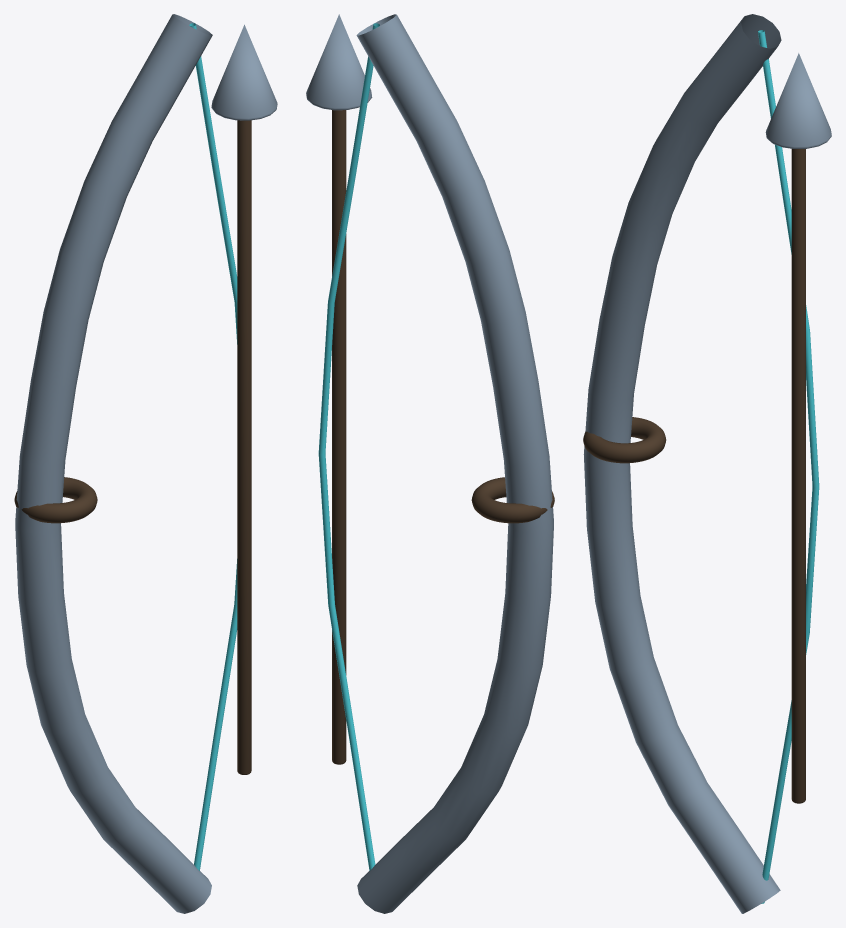
File: bow.glb
The picture shows the model from 3 angles, left to right: view 1: azimuth 30°, elevation 25°; view 2: azimuth 150°, elevation 25°; view 3: azimuth 330°, elevation 25°; orthographic projection.
Visible parts, largest first — view 1: BOW_BODY_PRIMARY, ARROW_SECONDARY, BOW_STRING_ACCENT, ARROW_HEAD_PRIMARY, BOW_GRIP_SECONDARY; view 2: BOW_BODY_PRIMARY, ARROW_SECONDARY, BOW_STRING_ACCENT, ARROW_HEAD_PRIMARY, BOW_GRIP_SECONDARY; view 3: BOW_BODY_PRIMARY, ARROW_SECONDARY, BOW_STRING_ACCENT, ARROW_HEAD_PRIMARY, BOW_GRIP_SECONDARY.
Part boxes in pixels (x1,y1,x2,y2): BOW_BODY_PRIMARY: (15, 14, 212, 913); ARROW_SECONDARY: (237, 120, 251, 774); BOW_STRING_ACCENT: (189, 23, 237, 870); ARROW_HEAD_PRIMARY: (211, 24, 277, 120); BOW_GRIP_SECONDARY: (14, 477, 97, 523); BOW_BODY_PRIMARY: (356, 14, 553, 913); ARROW_SECONDARY: (332, 110, 346, 764); BOW_STRING_ACCENT: (318, 23, 379, 870); ARROW_HEAD_PRIMARY: (306, 14, 372, 110); BOW_GRIP_SECONDARY: (471, 477, 554, 523); BOW_BODY_PRIMARY: (583, 14, 781, 913); ARROW_SECONDARY: (791, 149, 805, 803); BOW_STRING_ACCENT: (758, 30, 819, 903); ARROW_HEAD_PRIMARY: (765, 53, 831, 148); BOW_GRIP_SECONDARY: (583, 417, 666, 463).
Size of the model in its own units: 0.9984 by 3.44 by 0.3112.
